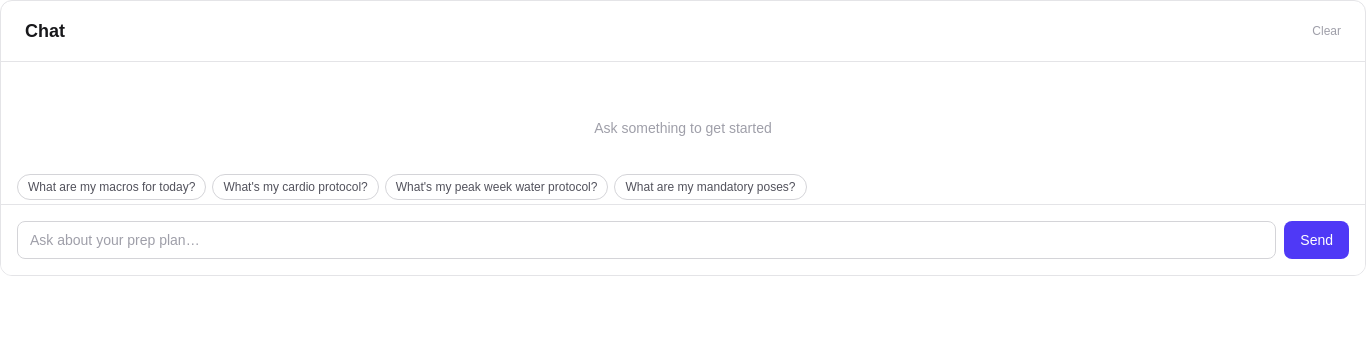
it: Task 9: Frontend UI — Chat Interface › should mark user and assistant messages with distinct roles
Type "Carbs?" into the field at x=647, y=240, box top-left (17, 221), bottom-right (1276, 259)
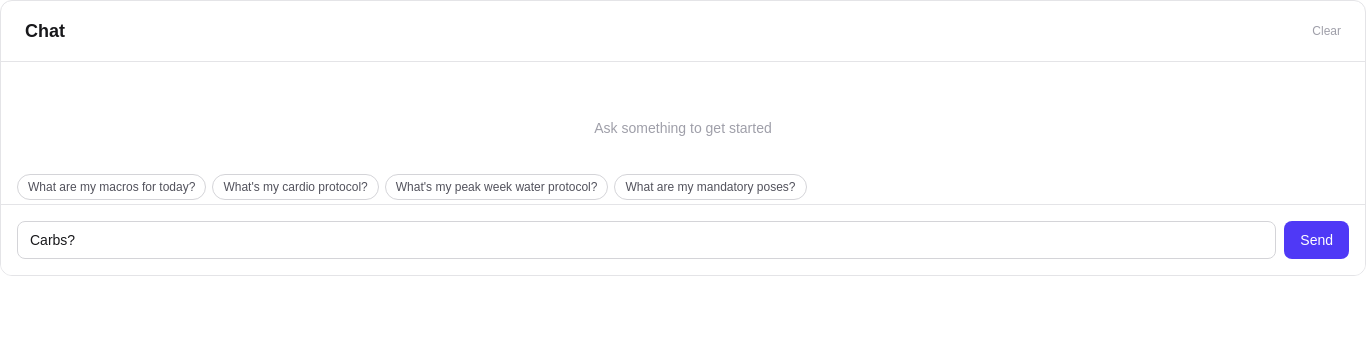
Click the button "Send" at x=1317, y=240, box top-left (1284, 221), bottom-right (1349, 259)
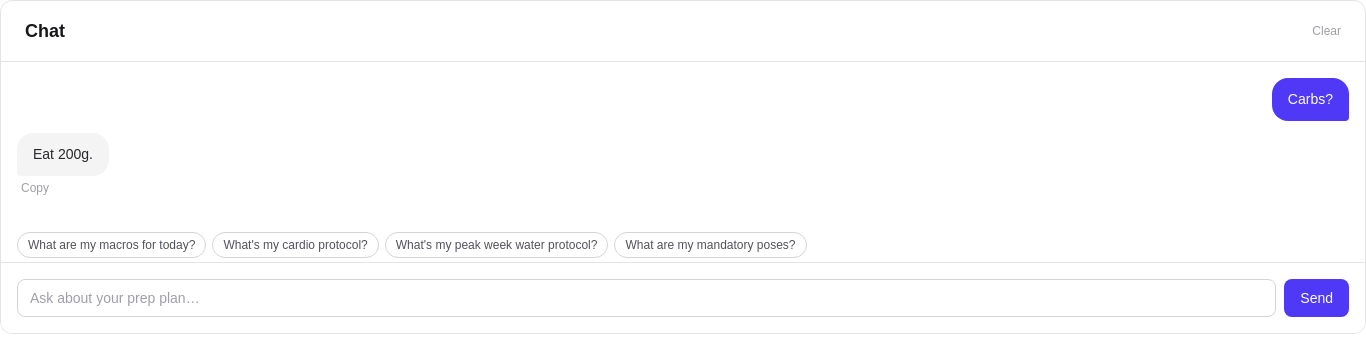
expect the text "Eat 200g." is shown: met, box top-left (33, 143), bottom-right (93, 166)
expect the text "Carbs?" is shown: met, box top-left (1272, 78), bottom-right (1349, 121)
